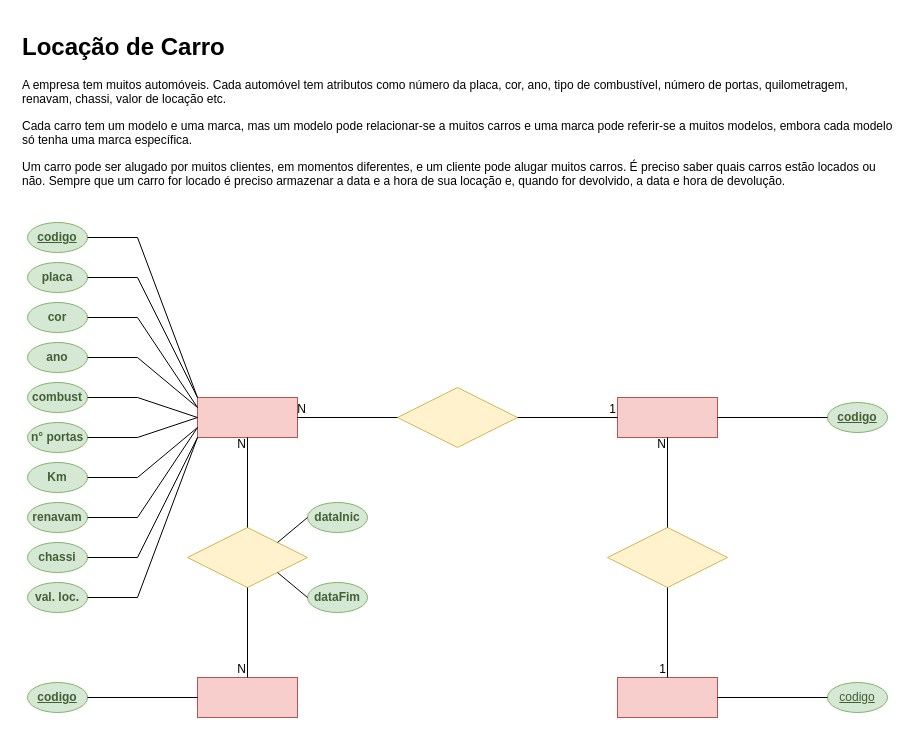
The diagram is 914 pixels wide and 735 high, and some of its shapes have lost their labels. The box of each missing label's shape, as (x1, y1, x2, y2) in pixels:
Aluga: (186, 526, 308, 588)
Automóvel: (196, 396, 298, 438)
Clientre: (196, 676, 298, 718)
Marca: (616, 676, 718, 718)
Modelo: (616, 396, 718, 438)
